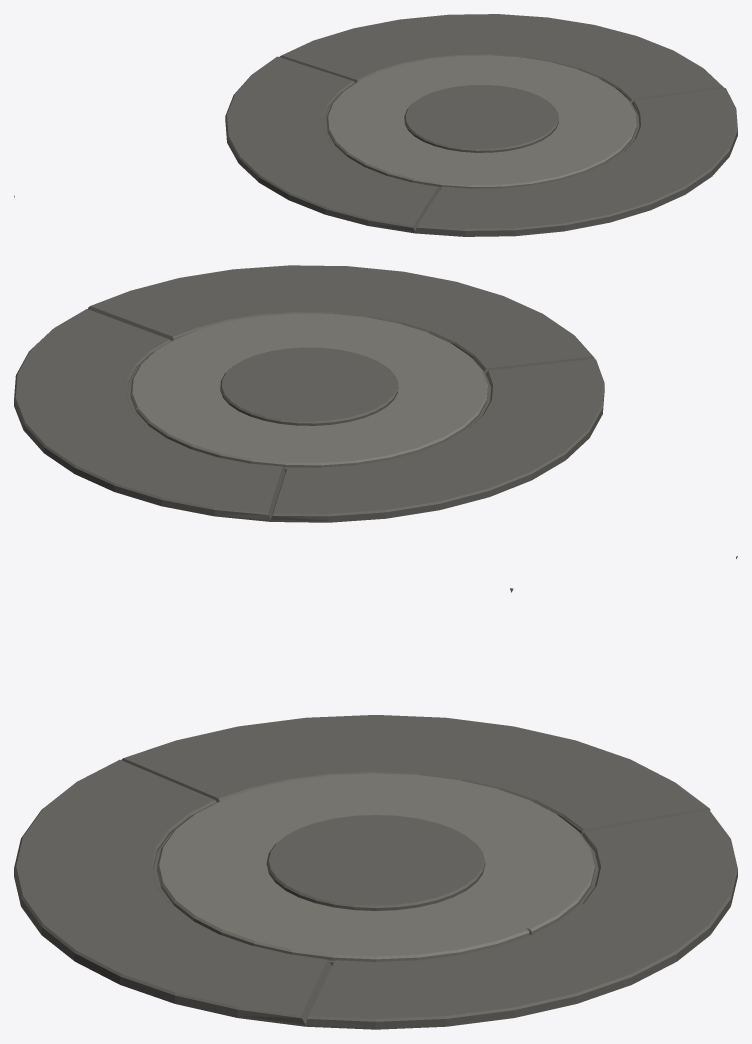
Rendered from Arena_02.fbx.
3 renders of one model, top to bottom at view 1: azimuth 30°, elevation 25°; view 2: azimuth 150°, elevation 25°; view 3: azimuth 270°, elevation 25°, orthographic. The views are drawn at different scales.
Parts seen in each view (by area): view 1: Arena_02; view 2: Arena_02; view 3: Arena_02.
Part boxes in pixels (x1,y1,x2,y2): Arena_02: [14, 14, 737, 236]; Arena_02: [14, 265, 737, 558]; Arena_02: [14, 588, 737, 1029].
Size of the model in its own units: 7.25 by 0.1649 by 5.02.
